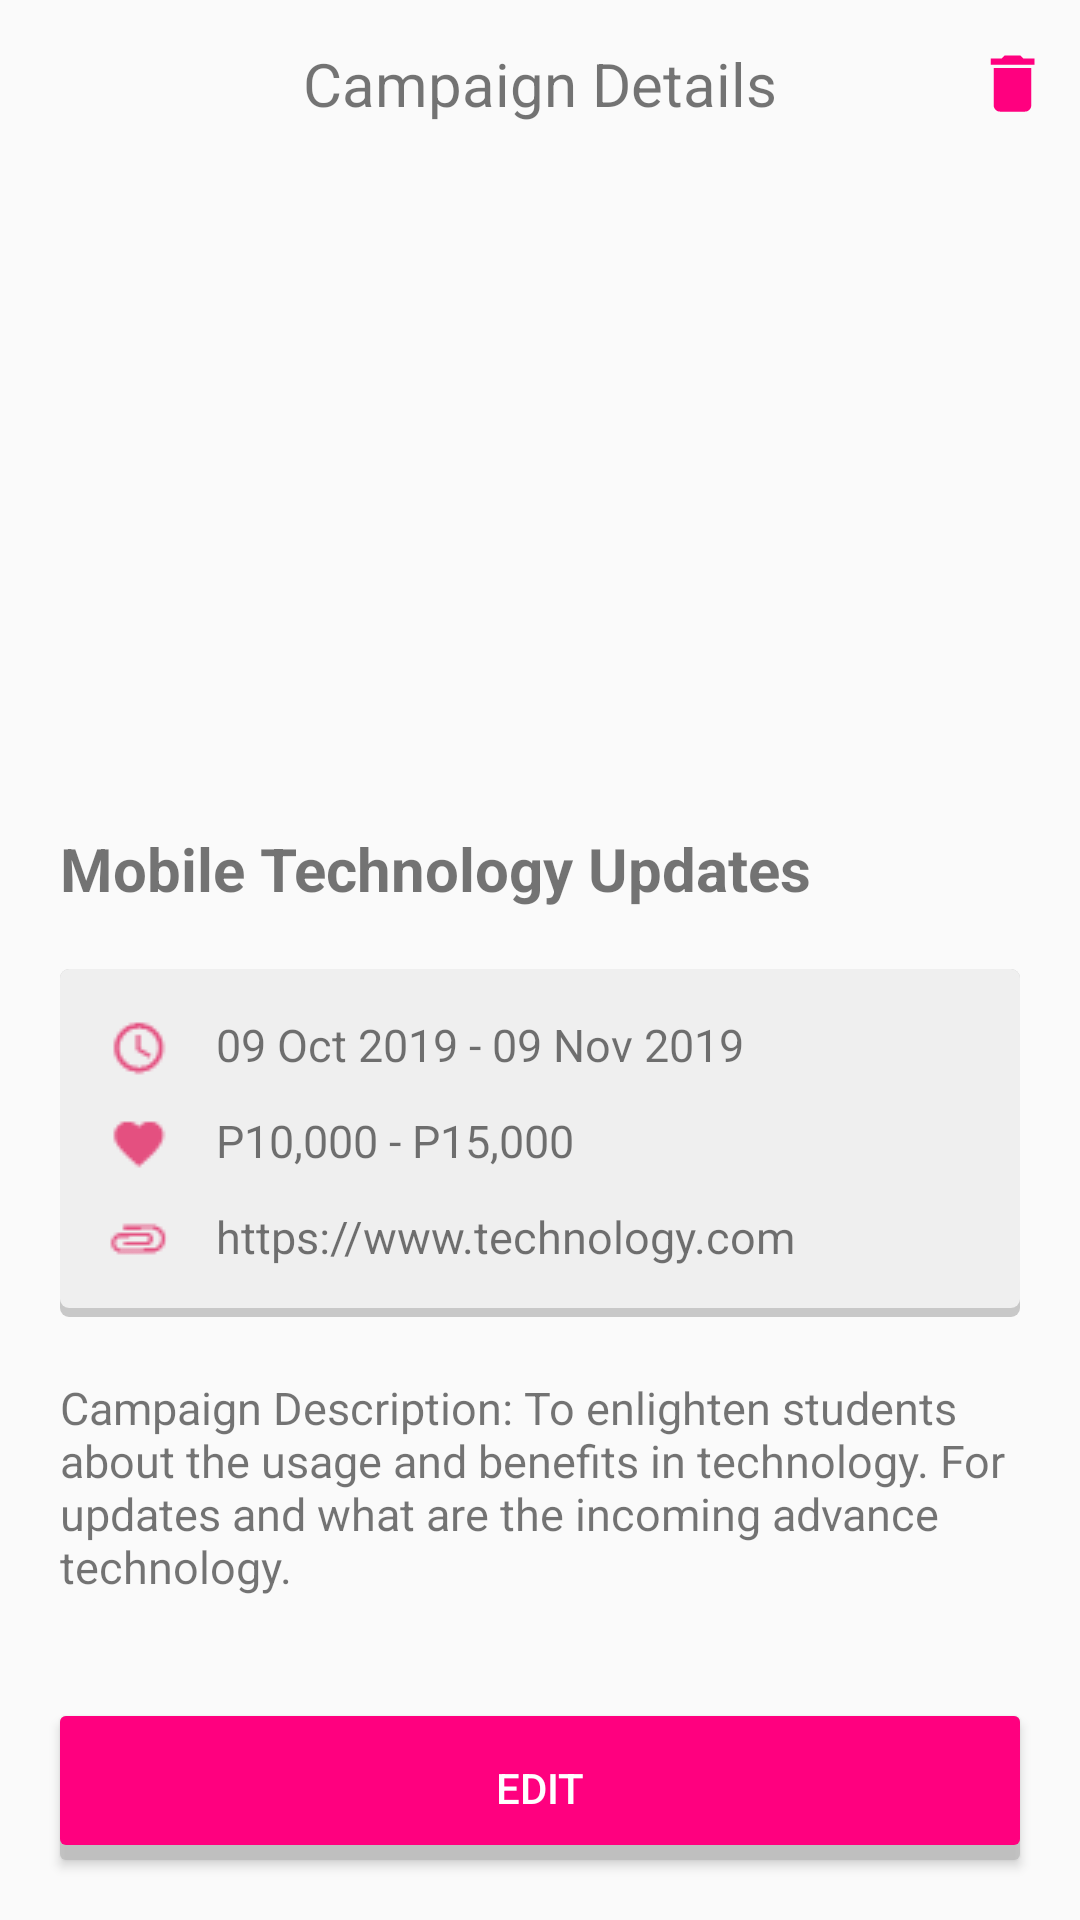

Point at icon controls on the screen. Image size 1080px×1920px, points as (x,y).
delete: (1012,83)
heart: (139,1144)
link: (138,1239)
time: (139,1048)
